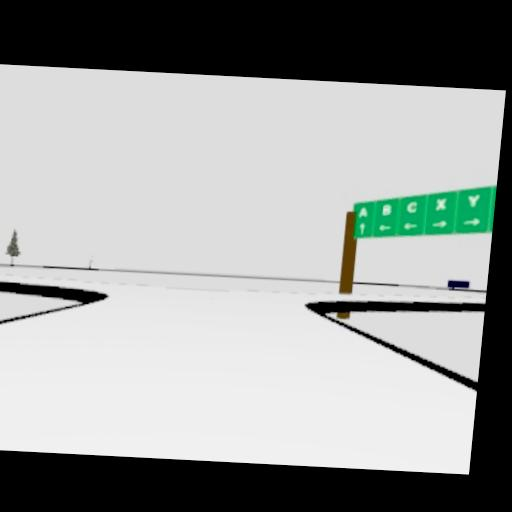A: (358, 207, 369, 219)
B: (381, 204, 392, 218)
C: (406, 202, 418, 215)
Left: (402, 222, 418, 231), (377, 224, 391, 232)
Right: (461, 218, 481, 227), (431, 220, 448, 229)
Straight: (358, 222, 366, 236)
X: (434, 198, 447, 212)
Y: (467, 194, 481, 209)
